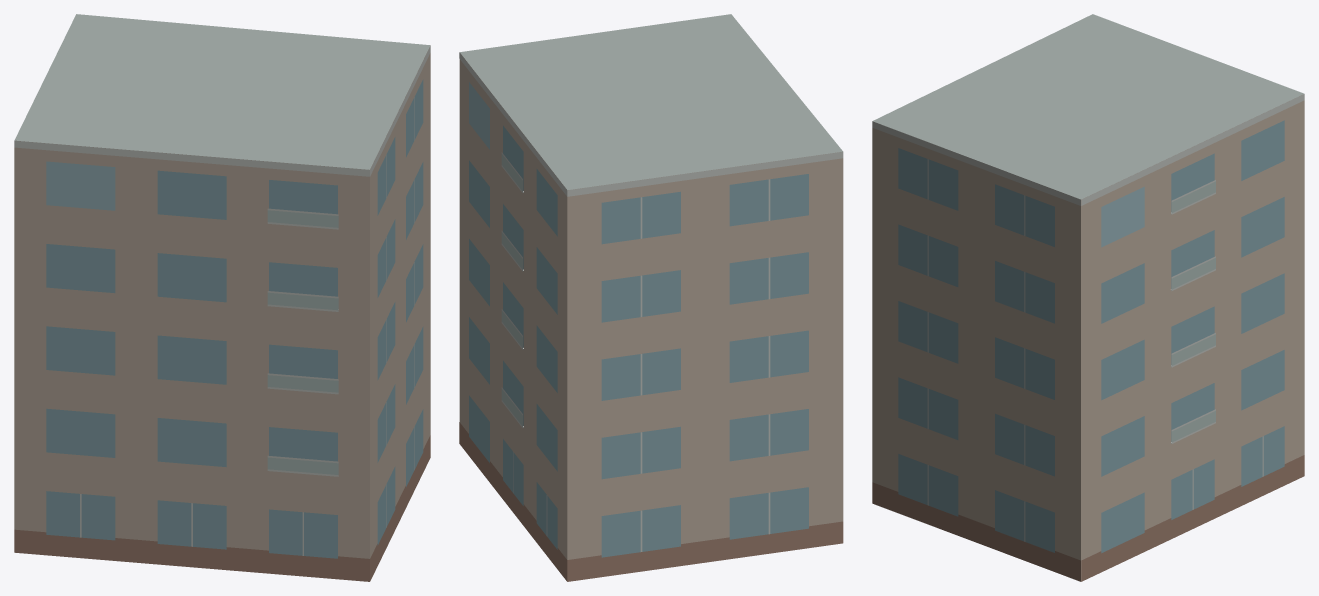
The model's file is survey-upis-32890378.glb.
3 renders of one model, left to right at view 1: azimuth 30°, elevation 25°; view 2: azimuth 150°, elevation 25°; view 3: azimuth 270°, elevation 25°, orthographic. The views are drawn at different scales.
Parts seen in each view (by area): view 1: survey-upis-32890378.tmp; view 2: survey-upis-32890378.tmp; view 3: survey-upis-32890378.tmp.
Part boxes in pixels (x1,y1,x2,y2): survey-upis-32890378.tmp: [14, 14, 430, 581]; survey-upis-32890378.tmp: [459, 14, 843, 581]; survey-upis-32890378.tmp: [872, 14, 1304, 581].
Size of the model in its own units: 15 by 14.4 by 14.77.
